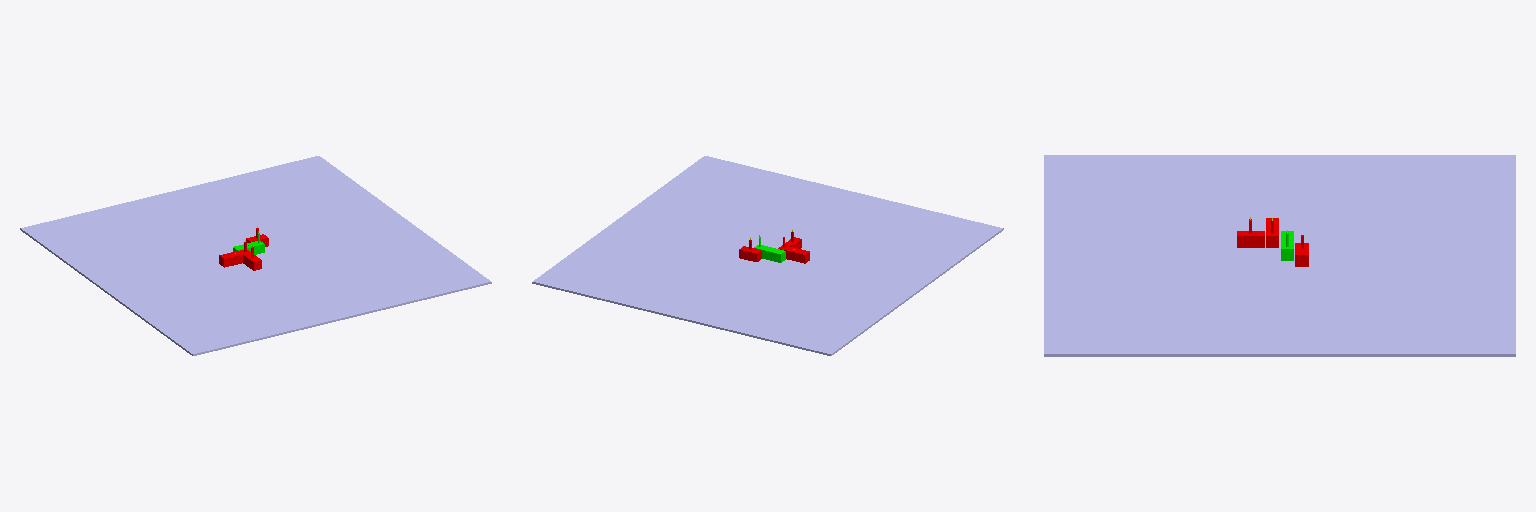
robot.urdf — grid_world:
<?xml version="1.0"?>
<!-- created with Phobos 1.0.1 "Capricious Choutengan" -->
  <robot name="grid_world">

    <link name="base_link">
      <inertial>
        <origin xyz="0 0 0" rpy="0 0 0"/>
        <mass value="0.001"/>
        <inertia ixx="0.001" ixy="0" ixz="0" iyy="0.001" iyz="0" izz="0.001"/>
      </inertial>
      <visual name="visual_cube_base">
        <origin xyz="0 0 0" rpy="0 0 0"/>
        <geometry>
          <box size="32.0 32.0 0.2"/>
        </geometry>
        <material name="lavender"/>
      </visual>
      <collision name="collision_cube_base">
        <origin xyz="0 0 0" rpy="0 0 0"/>
        <geometry>
          <box size="32.0 32.0 0.2"/>
        </geometry>
      </collision>
    </link>

    <link name="link_0">
      <inertial>
        <origin xyz="0 0 0" rpy="0 0 0"/>
        <mass value="0.001"/>
        <inertia ixx="0.001" ixy="0" ixz="0" iyy="0.001" iyz="0" izz="0.001"/>
      </inertial>
      <visual name="visual_cube_0">
        <origin xyz="0 0 0" rpy="0 0 0"/>
        <geometry>
          <box size="2.9 0.9 0.9"/>
        </geometry>
        <material name="green"/>
      </visual>
      <collision name="collision_cube_0">
        <origin xyz="0 0 0" rpy="0 0 0"/>
        <geometry>
          <box size="2.9 0.9 0.9"/>
        </geometry>
      </collision>
    </link>

    <link name="link_1">
      <inertial>
        <origin xyz="0 0 0" rpy="0 0 0"/>
        <mass value="0.001"/>
        <inertia ixx="0.001" ixy="0" ixz="0" iyy="0.001" iyz="0" izz="0.001"/>
      </inertial>
      <visual name="visual_cube_1">
        <origin xyz="0 0 0" rpy="0 0 0"/>
        <geometry>
          <box size="2.9 0.9 0.9"/>
        </geometry>
        <material name="red"/>
      </visual>
      <collision name="collision_cube_1">
        <origin xyz="0 0 0" rpy="0 0 0"/>
        <geometry>
          <box size="2.9 0.9 0.9"/>
        </geometry>
      </collision>
    </link>

    <link name="link_2">
      <inertial>
        <origin xyz="0 0 0" rpy="0 0 0"/>
        <mass value="0.001"/>
        <inertia ixx="0.001" ixy="0" ixz="0" iyy="0.001" iyz="0" izz="0.001"/>
      </inertial>
      <visual name="visual_cube_2">
        <origin xyz="0 0 0" rpy="0 0 0"/>
        <geometry>
          <box size="0.9 0.9 1.9"/>
        </geometry>
        <material name="red"/>
      </visual>
      <collision name="collision_cube_2">
        <origin xyz="0 0 0" rpy="0 0 0"/>
        <geometry>
          <box size="0.9 0.9 1.9"/>
        </geometry>
      </collision>
    </link>

    <link name="link_3">
      <inertial>
        <origin xyz="0 0 0" rpy="0 0 0"/>
        <mass value="0.001"/>
        <inertia ixx="0.001" ixy="0" ixz="0" iyy="0.001" iyz="0" izz="0.001"/>
      </inertial>
      <visual name="visual_cube_3">
        <origin xyz="0 0 0" rpy="0 0 0"/>
        <geometry>
          <box size="0.9 0.9 1.9"/>
        </geometry>
        <material name="red"/>
      </visual>
      <collision name="collision_cube_3">
        <origin xyz="0 0 0" rpy="0 0 0"/>
        <geometry>
          <box size="0.9 0.9 1.9"/>
        </geometry>
      </collision>
    </link>

    <link name="link_handle_knob_0">
      <inertial>
        <origin xyz="0 0 0" rpy="0 0 0"/>
        <mass value="0.001"/>
        <inertia ixx="0.001" ixy="0" ixz="0" iyy="0.001" iyz="0" izz="0.001"/>
      </inertial>
      <visual name="visual_cube_handle_knob_0">
        <origin xyz="0 0 0" rpy="0 0 0"/>
        <geometry>
          <box size="0.05 0.05 0.2"/>
        </geometry>
        <material name="yellow"/>
      </visual>
      <collision name="collision_cube_handle_knob_0">
        <origin xyz="0 0 0" rpy="0 0 0"/>
        <geometry>
          <box size="0.05 0.05 0.2"/>
        </geometry>
      </collision>
    </link>

    <link name="link_handle_knob_1">
      <inertial>
        <origin xyz="0 0 0" rpy="0 0 0"/>
        <mass value="0.001"/>
        <inertia ixx="0.001" ixy="0" ixz="0" iyy="0.001" iyz="0" izz="0.001"/>
      </inertial>
      <visual name="visual_cube_handle_knob_1">
        <origin xyz="0 0 0" rpy="0 0 0"/>
        <geometry>
          <box size="0.05 0.05 0.2"/>
        </geometry>
        <material name="yellow"/>
      </visual>
      <collision name="collision_cube_handle_knob_1">
        <origin xyz="0 0 0" rpy="0 0 0"/>
        <geometry>
          <box size="0.05 0.05 0.2"/>
        </geometry>
      </collision>
    </link>

    <link name="link_handle_knob_2">
      <inertial>
        <origin xyz="0 0 0" rpy="0 0 0"/>
        <mass value="0.001"/>
        <inertia ixx="0.001" ixy="0" ixz="0" iyy="0.001" iyz="0" izz="0.001"/>
      </inertial>
      <visual name="visual_cube_handle_knob_2">
        <origin xyz="0 0 0" rpy="0 0 0"/>
        <geometry>
          <box size="0.05 0.05 0.2"/>
        </geometry>
        <material name="yellow"/>
      </visual>
      <collision name="collision_cube_handle_knob_2">
        <origin xyz="0 0 0" rpy="0 0 0"/>
        <geometry>
          <box size="0.05 0.05 0.2"/>
        </geometry>
      </collision>
    </link>

    <link name="link_handle_knob_3">
      <inertial>
        <origin xyz="0 0 0" rpy="0 0 0"/>
        <mass value="0.001"/>
        <inertia ixx="0.001" ixy="0" ixz="0" iyy="0.001" iyz="0" izz="0.001"/>
      </inertial>
      <visual name="visual_cube_handle_knob_3">
        <origin xyz="0 0 0" rpy="0 0 0"/>
        <geometry>
          <box size="0.05 0.05 0.2"/>
        </geometry>
        <material name="yellow"/>
      </visual>
      <collision name="collision_cube_handle_knob_3">
        <origin xyz="0 0 0" rpy="0 0 0"/>
        <geometry>
          <box size="0.05 0.05 0.2"/>
        </geometry>
      </collision>
    </link>

    <link name="link_handle_shaft_0">
      <inertial>
        <origin xyz="0 0 0" rpy="0 0 0"/>
        <mass value="0.001"/>
        <inertia ixx="0.001" ixy="0" ixz="0" iyy="0.001" iyz="0" izz="0.001"/>
      </inertial>
      <visual name="visual_cylinder_handle_shaft_0">
        <origin xyz="0 0 0" rpy="0 0 0"/>
        <geometry>
          <cylinder radius="0.1" length="1.0"/>
        </geometry>
        <material name="green"/>
      </visual>
      <collision name="collision_cylinder_handle_shaft_0">
        <origin xyz="0 0 0" rpy="0 0 0"/>
        <geometry>
          <cylinder radius="0.1" length="1.0"/>
        </geometry>
      </collision>
    </link>

    <link name="link_handle_shaft_1">
      <inertial>
        <origin xyz="0 0 0" rpy="0 0 0"/>
        <mass value="0.001"/>
        <inertia ixx="0.001" ixy="0" ixz="0" iyy="0.001" iyz="0" izz="0.001"/>
      </inertial>
      <visual name="visual_cylinder_handle_shaft_1">
        <origin xyz="0 0 0" rpy="0 0 0"/>
        <geometry>
          <cylinder radius="0.1" length="1.0"/>
        </geometry>
        <material name="red"/>
      </visual>
      <collision name="collision_cylinder_handle_shaft_1">
        <origin xyz="0 0 0" rpy="0 0 0"/>
        <geometry>
          <cylinder radius="0.1" length="1.0"/>
        </geometry>
      </collision>
    </link>

    <link name="link_handle_shaft_2">
      <inertial>
        <origin xyz="0 0 0" rpy="0 0 0"/>
        <mass value="0.001"/>
        <inertia ixx="0.001" ixy="0" ixz="0" iyy="0.001" iyz="0" izz="0.001"/>
      </inertial>
      <visual name="visual_cube_handle_shaft_2">
        <origin xyz="0 0 0" rpy="0 0 0"/>
        <geometry>
          <box size="0.2 0.2 1.0"/>
        </geometry>
        <material name="red"/>
      </visual>
      <collision name="collision_cube_handle_shaft_2">
        <origin xyz="0 0 0" rpy="0 0 0"/>
        <geometry>
          <box size="0.2 0.2 1.0"/>
        </geometry>
      </collision>
    </link>

    <link name="link_handle_shaft_3">
      <inertial>
        <origin xyz="0 0 0" rpy="0 0 0"/>
        <mass value="0.001"/>
        <inertia ixx="0.001" ixy="0" ixz="0" iyy="0.001" iyz="0" izz="0.001"/>
      </inertial>
      <visual name="visual_cube_handle_shaft_3">
        <origin xyz="0 0 0" rpy="0 0 0"/>
        <geometry>
          <box size="0.2 0.2 1.0"/>
        </geometry>
        <material name="red"/>
      </visual>
      <collision name="collision_cube_handle_shaft_3">
        <origin xyz="0 0 0" rpy="0 0 0"/>
        <geometry>
          <box size="0.2 0.2 1.0"/>
        </geometry>
      </collision>
    </link>

    <link name="link_hinge_0">
      <inertial>
        <origin xyz="0 0 0" rpy="0 0 0"/>
        <mass value="0.001"/>
        <inertia ixx="0.001" ixy="0" ixz="0" iyy="0.001" iyz="0" izz="0.001"/>
      </inertial>
      <visual name="visual_cylinder_hinge_0">
        <origin xyz="0 0 0" rpy="0 0 0"/>
        <geometry>
          <cylinder radius="0.05" length="1.0"/>
        </geometry>
        <material name="gray"/>
      </visual>
      <collision name="collision_cylinder_hinge_0">
        <origin xyz="0 0 0" rpy="0 0 0"/>
        <geometry>
          <cylinder radius="0.05" length="1.0"/>
        </geometry>
      </collision>
    </link>

    <link name="link_hinge_1">
      <inertial>
        <origin xyz="0 0 0" rpy="0 0 0"/>
        <mass value="0.001"/>
        <inertia ixx="0.001" ixy="0" ixz="0" iyy="0.001" iyz="0" izz="0.001"/>
      </inertial>
      <visual name="visual_cylinder_hinge_1">
        <origin xyz="0 0 0" rpy="0 0 0"/>
        <geometry>
          <cylinder radius="0.05" length="1.0"/>
        </geometry>
        <material name="gray"/>
      </visual>
      <collision name="collision_cylinder_hinge_1">
        <origin xyz="0 0 0" rpy="0 0 0"/>
        <geometry>
          <cylinder radius="0.05" length="1.0"/>
        </geometry>
      </collision>
    </link>

    <joint name="link_0" type="revolute">
      <origin xyz="-0.5 0.5 0.55" rpy="0 0 0"/>
      <parent link="base_link"/>
      <child link="link_0"/>
      <axis xyz="0 0 1.0"/>
      <limit lower="0" upper="1.5708" effort="0" velocity="0"/>
    </joint>

    <joint name="link_1" type="revolute">
      <origin xyz="-2.5 -0.5 0.55" rpy="0 0 0"/>
      <parent link="base_link"/>
      <child link="link_1"/>
      <axis xyz="0 0 1.0"/>
      <limit lower="-1.5708" upper="0" effort="0" velocity="0"/>
    </joint>

    <joint name="link_2" type="prismatic">
      <origin xyz="1.0 1.5 0.55" rpy="0 1.5708 0"/>
      <parent link="base_link"/>
      <child link="link_2"/>
      <axis xyz="0 0 1.0"/>
      <limit lower="0" upper="1.0" effort="0" velocity="0"/>
    </joint>

    <joint name="link_3" type="prismatic">
      <origin xyz="-1.5 -2.0 0.55" rpy="1.5708 0 0"/>
      <parent link="base_link"/>
      <child link="link_3"/>
      <axis xyz="0 0 1.0"/>
      <limit lower="0" upper="1.0" effort="0" velocity="0"/>
    </joint>

    <joint name="link_handle_knob_0" type="fixed">
      <origin xyz="0 0 0.6" rpy="0 0 0"/>
      <parent link="link_handle_shaft_0"/>
      <child link="link_handle_knob_0"/>
    </joint>

    <joint name="link_handle_knob_1" type="fixed">
      <origin xyz="0 0 0.6" rpy="0 0 0"/>
      <parent link="link_handle_shaft_1"/>
      <child link="link_handle_knob_1"/>
    </joint>

    <joint name="link_handle_knob_2" type="fixed">
      <origin xyz="0 0 0.6" rpy="0 0 0"/>
      <parent link="link_handle_shaft_2"/>
      <child link="link_handle_knob_2"/>
    </joint>

    <joint name="link_handle_knob_3" type="fixed">
      <origin xyz="0 0 0.6" rpy="0 0 0"/>
      <parent link="link_handle_shaft_3"/>
      <child link="link_handle_knob_3"/>
    </joint>

    <joint name="link_handle_shaft_0" type="fixed">
      <origin xyz="1.0875 0 0.95" rpy="0 0 0"/>
      <parent link="link_0"/>
      <child link="link_handle_shaft_0"/>
    </joint>

    <joint name="link_handle_shaft_1" type="fixed">
      <origin xyz="1.0875 0 0.95" rpy="0 0 0"/>
      <parent link="link_1"/>
      <child link="link_handle_shaft_1"/>
    </joint>

    <joint name="link_handle_shaft_2" type="fixed">
      <origin xyz="-0.95 0 0" rpy="0 -1.5708 0"/>
      <parent link="link_2"/>
      <child link="link_handle_shaft_2"/>
    </joint>

    <joint name="link_handle_shaft_3" type="fixed">
      <origin xyz="0 0.95 0" rpy="-1.5708 0 0"/>
      <parent link="link_3"/>
      <child link="link_handle_shaft_3"/>
    </joint>

    <joint name="link_hinge_0" type="fixed">
      <origin xyz="0 0 0" rpy="0 0 0"/>
      <parent link="link_0"/>
      <child link="link_hinge_0"/>
    </joint>

    <joint name="link_hinge_1" type="fixed">
      <origin xyz="0 0 0" rpy="0 0 0"/>
      <parent link="link_1"/>
      <child link="link_hinge_1"/>
    </joint>

    <material name="gray">
      <color rgba="0.5 0.5 0.5 1.0"/>
    </material>

    <material name="green">
      <color rgba="0 1.0 0 1.0"/>
    </material>

    <material name="lavender">
      <color rgba="0.8 0.8 1.0 1.0"/>
    </material>

    <material name="red">
      <color rgba="1.0 0 0 1.0"/>
    </material>

    <material name="yellow">
      <color rgba="1.0 1.0 0 1.0"/>
    </material>

  </robot>

--- What the picture shows (computed from the rendered views, not written in the file) ---
3 views of the same robot in one strip: view 1: azimuth 30°, elevation 25°; view 2: azimuth 150°, elevation 25°; view 3: azimuth 270°, elevation 25° (orthographic).
Robot: grid_world — 15 links, 14 joints (2 revolute, 2 prismatic, 10 fixed); root link base_link; default pose: all joints at 0.
Visible links, largest first — view 1: base_link; view 2: base_link; view 3: base_link.
Link boxes in pixels (box(x1,y1,x2,y2)): base_link: box(20, 156, 491, 355); base_link: box(532, 156, 1003, 355); base_link: box(1044, 155, 1515, 356).
Size in the robot's own frame: 32 by 32 by 2.3 metres.
Geometry: primitives only (box / cylinder / sphere), no mesh files.
